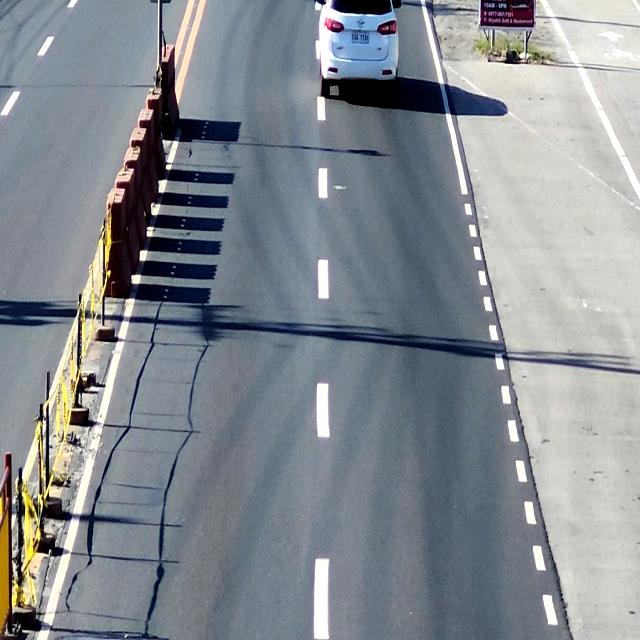Car: (320, 0, 399, 95)
License-Plate: (352, 27, 371, 51)
